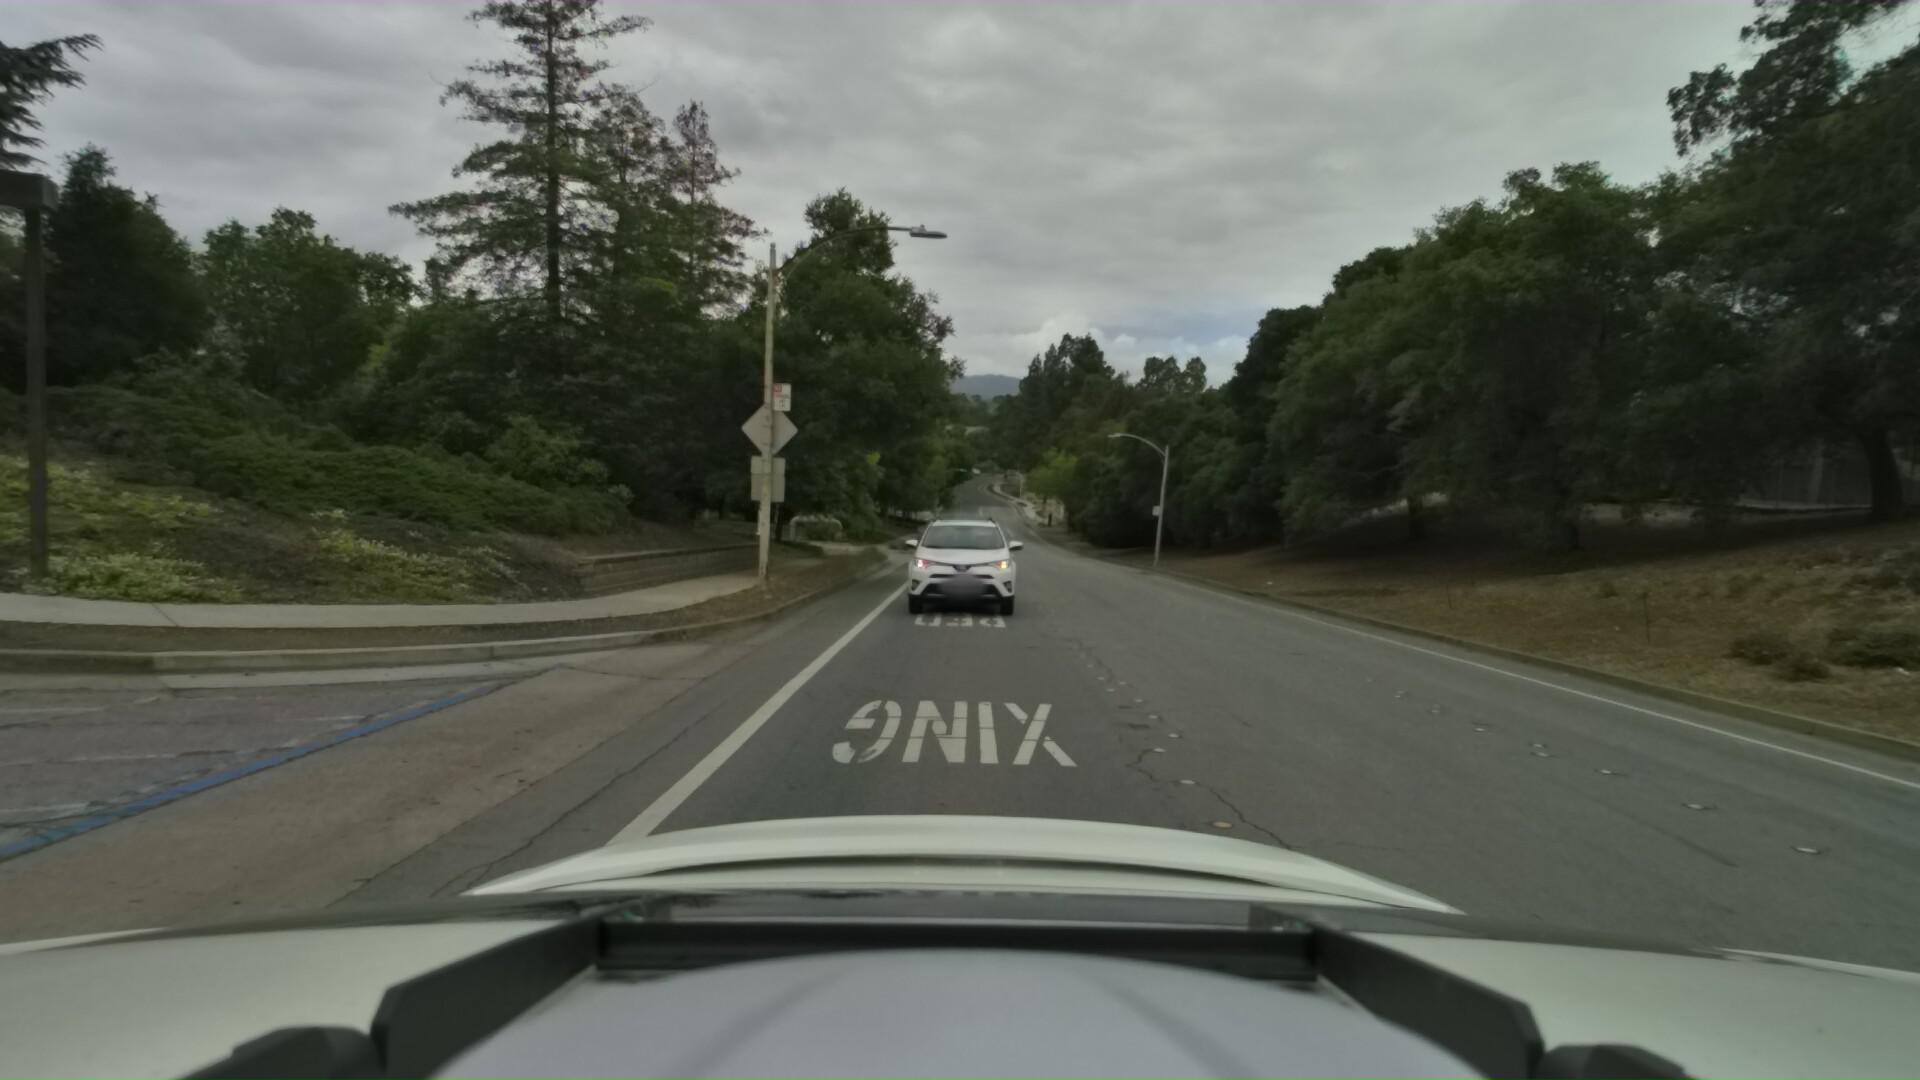car: (897, 506, 1011, 629)
